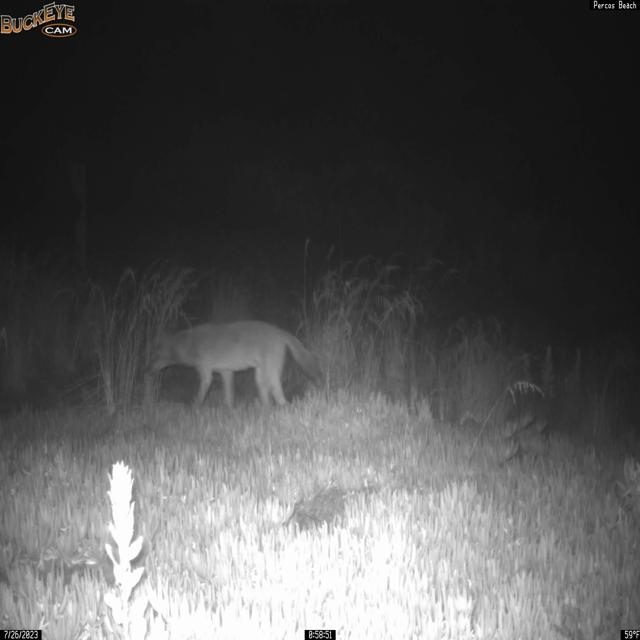coyote: (145, 319, 326, 412)
